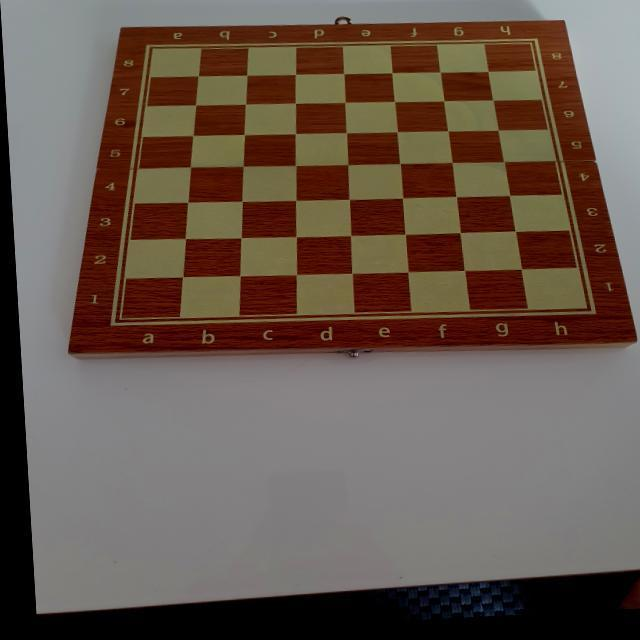chess-table-corners: (99, 309, 131, 331), (568, 306, 599, 328), (133, 39, 161, 57), (518, 38, 544, 56)
